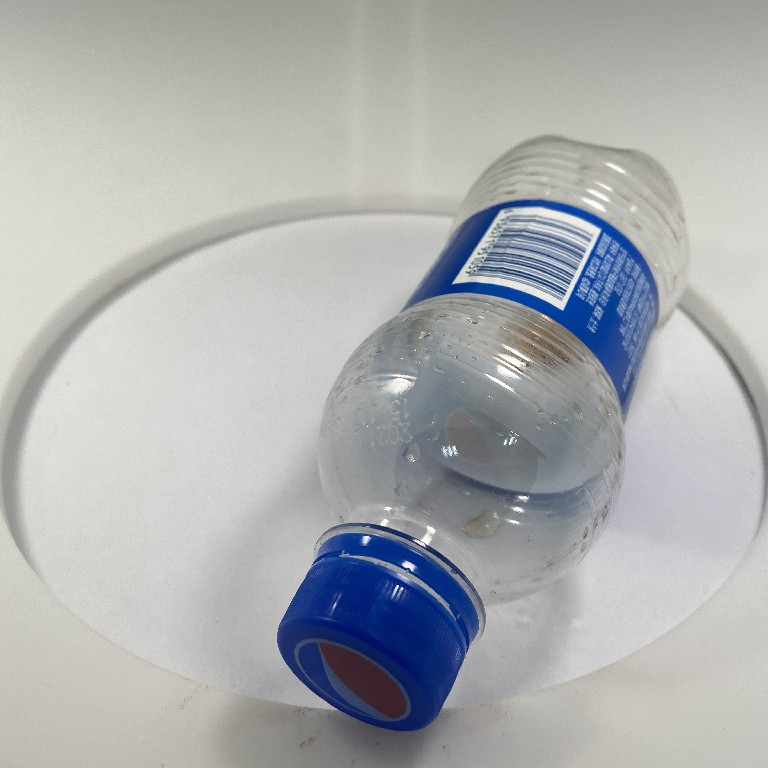bottle: (264, 127, 695, 741)
